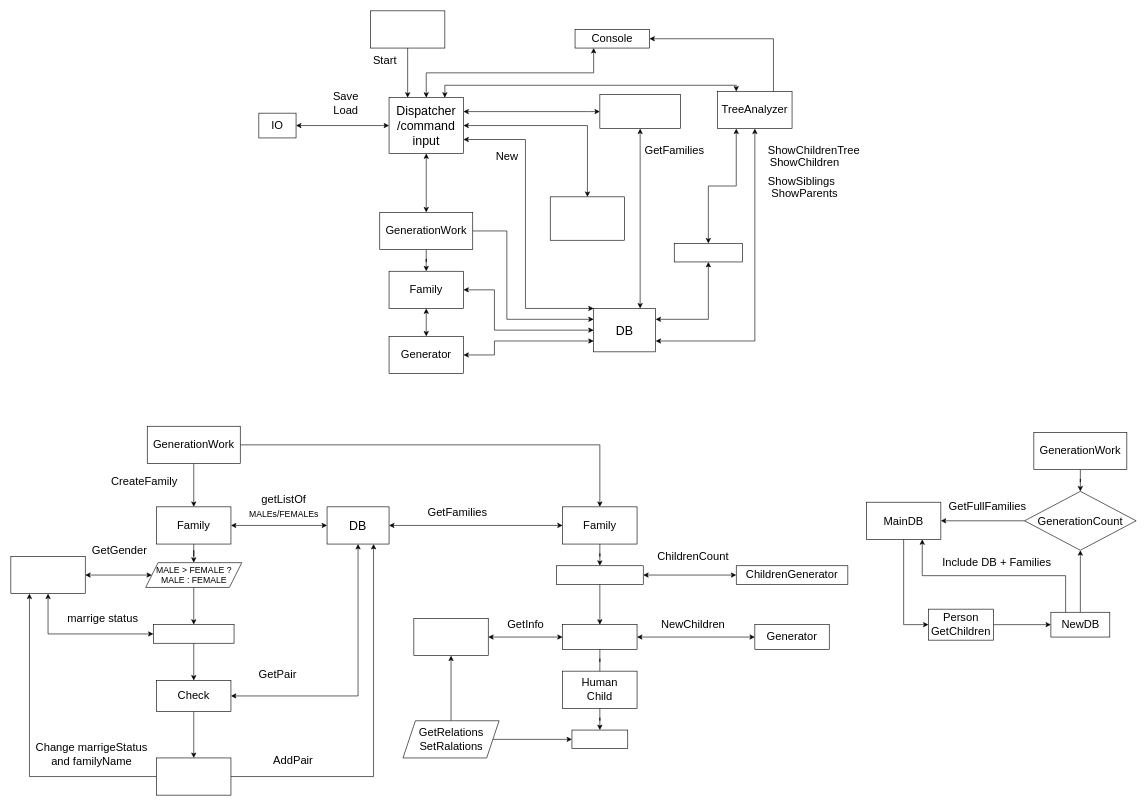
This 1147x806 diagram has some shape labels left out. Here are the shapes that lost their labels. From the top down, the centre of each, then its label:
the point at 407,29: Main
the point at 639,111: FamilyAnalyzer
the point at 587,218: StatWorker
the point at 708,252: GetRandom
the point at 47,575: Human
the point at 599,574: SnuSnuResults
the point at 193,633: PrepairCouples
the point at 450,637: Human Parents
the point at 599,636: CreateChild
the point at 599,739: Relation
the point at 193,776: Marrige
